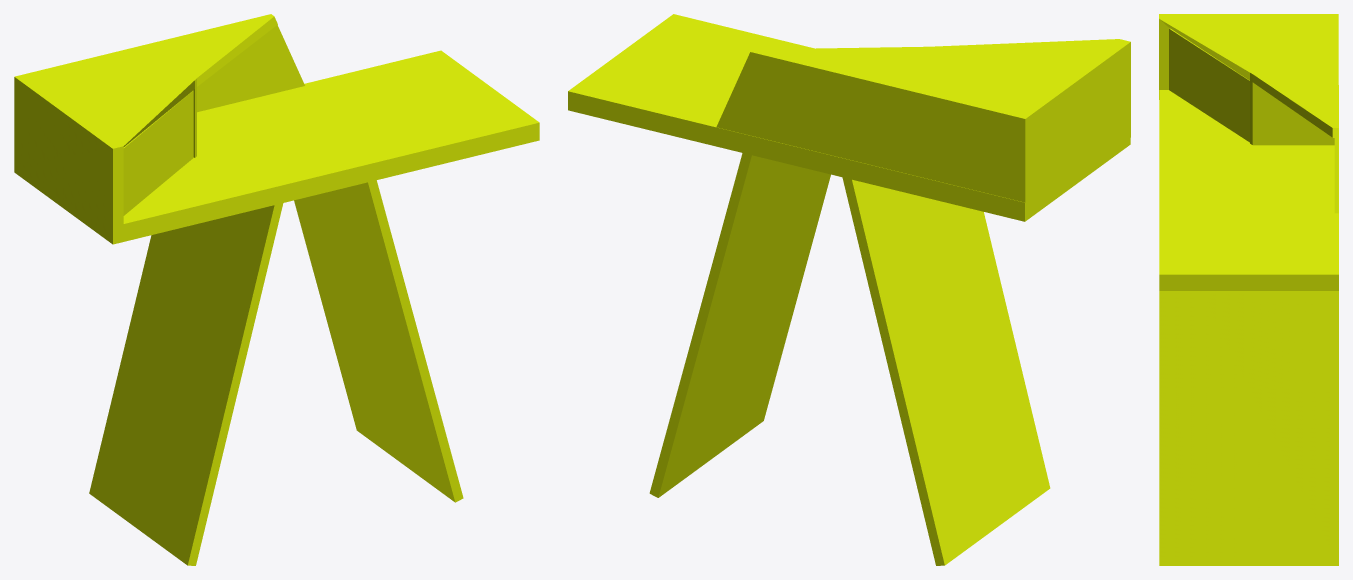
The model's file is TallTable2.FBX.
3 renders of one model, left to right at view 1: azimuth 30°, elevation 25°; view 2: azimuth 150°, elevation 25°; view 3: azimuth 270°, elevation 25°, orthographic. The views are drawn at different scales.
Parts seen in each view (by area): view 1: Box010; view 2: Box010; view 3: Box010.
Part boxes in pixels (x1,y1,x2,y2): Box010: (14, 14, 539, 565); Box010: (568, 14, 1130, 565); Box010: (1159, 14, 1338, 565).
Bounding box in the file's own units: 1.33 × 1.3 × 0.5321.
